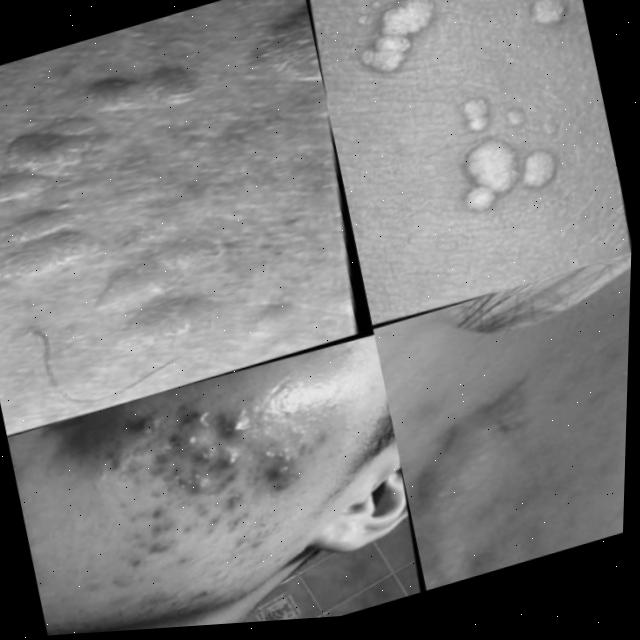Acne: (0, 0, 372, 409), (48, 360, 353, 636), (382, 362, 577, 593)
